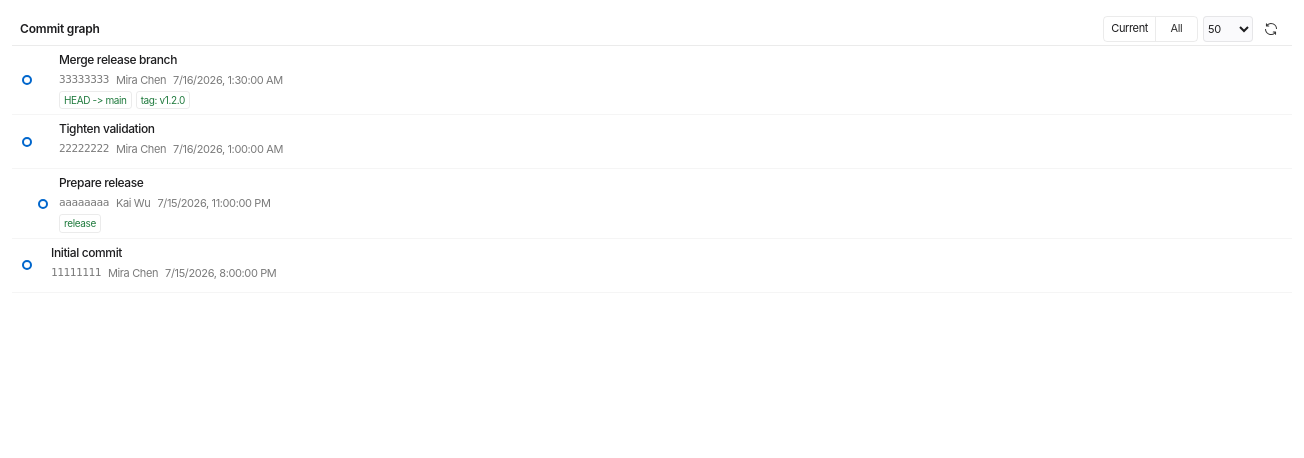
8B: CommitGraph › shows the selected commit details inline
Click the button that starts with "Merge release branch".
click(118, 60)  # box [12,46,1292,116]
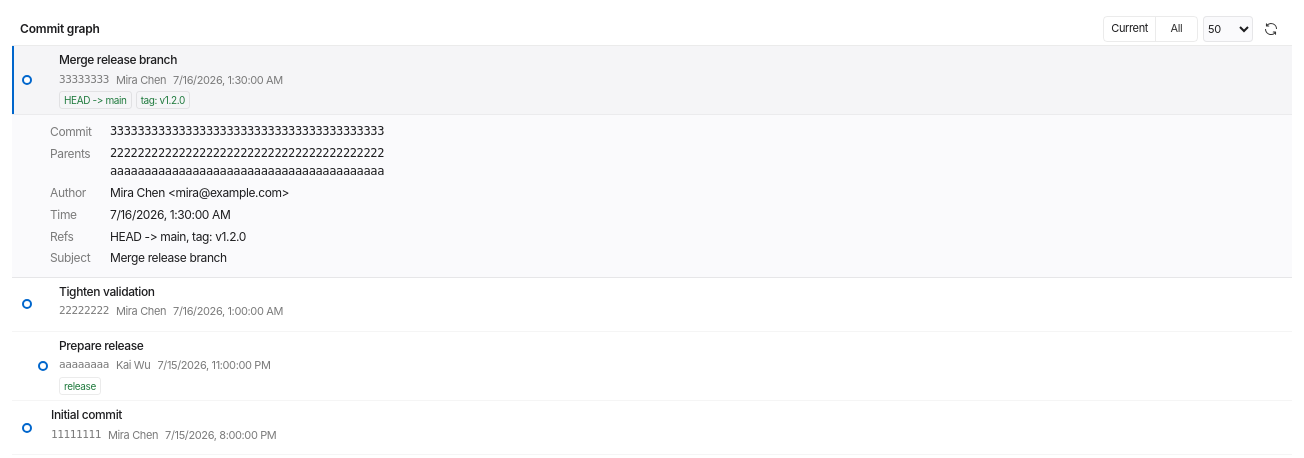
Result: the element with class "commit-graph__details" shows "3333333333333333333333333333333333333333" at [110,124,384,138]
Result: the element with class "commit-graph__details" shows "2222222222222222222222222222222222222222" at [110,146,384,160]
Result: the element with class "commit-graph__details" shows "Mira Chen" at [110,185,289,200]
